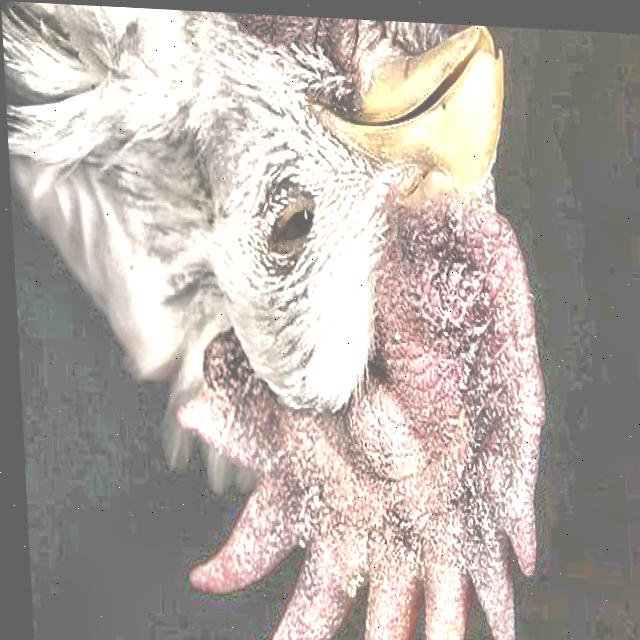Newcastle: (0, 0, 551, 640)
